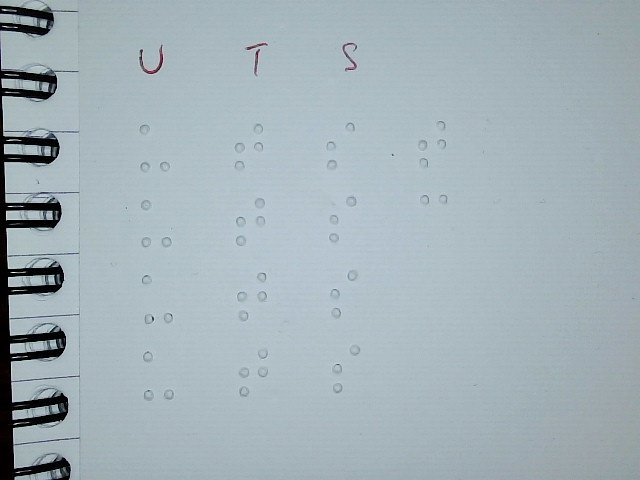S: (324, 119, 358, 170), (327, 194, 359, 244), (328, 268, 360, 318), (330, 343, 362, 393)
T: (232, 120, 266, 171), (233, 195, 267, 246), (235, 269, 269, 320), (237, 346, 271, 397)
U: (141, 349, 175, 401), (138, 122, 172, 173), (139, 197, 173, 248), (140, 273, 174, 324)
